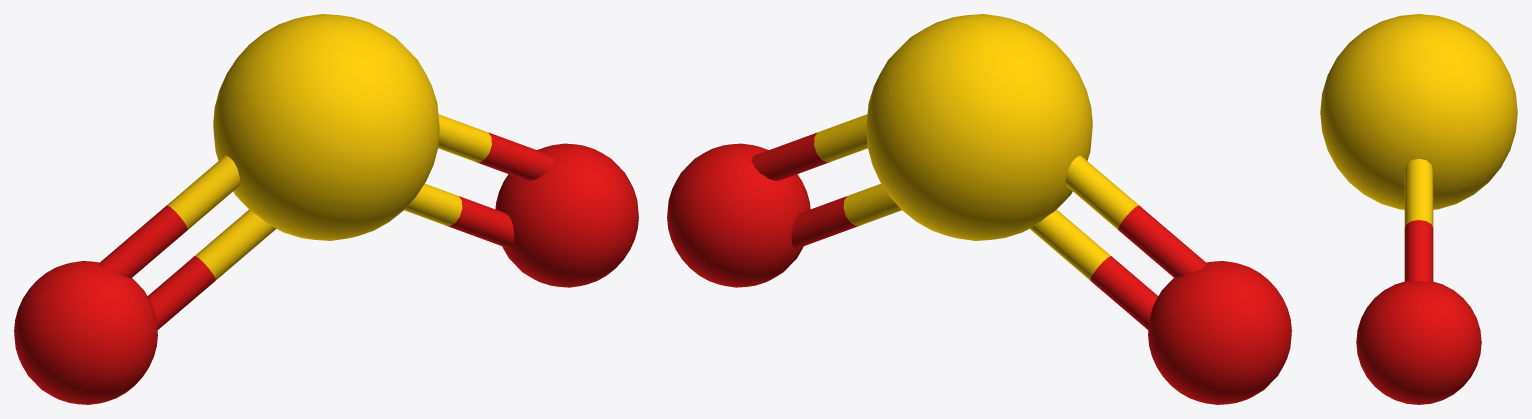
3 views of the same model, side by side, from view 1: azimuth 30°, elevation 25°; view 2: azimuth 150°, elevation 25°; view 3: azimuth 270°, elevation 25° (orthographic). The views are drawn at different scales.
Visible parts, largest first — view 1: Sphere001; view 2: Sphere001; view 3: Sphere001.
Boxes of the visible parts, x1,y1,x2,y2 form: Sphere001: (14,14,638,404); Sphere001: (667,14,1291,404); Sphere001: (1320,14,1517,404).
Bounding box in the file's own units: 64.05 × 31.83 × 20.8.
